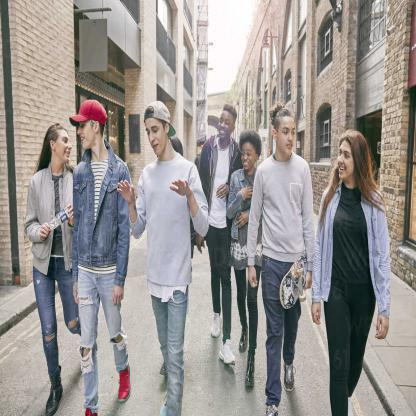person: (70, 98, 128, 411), (316, 129, 378, 416), (136, 100, 192, 416), (257, 108, 309, 416), (28, 123, 72, 415), (200, 105, 240, 364), (228, 129, 263, 387)
